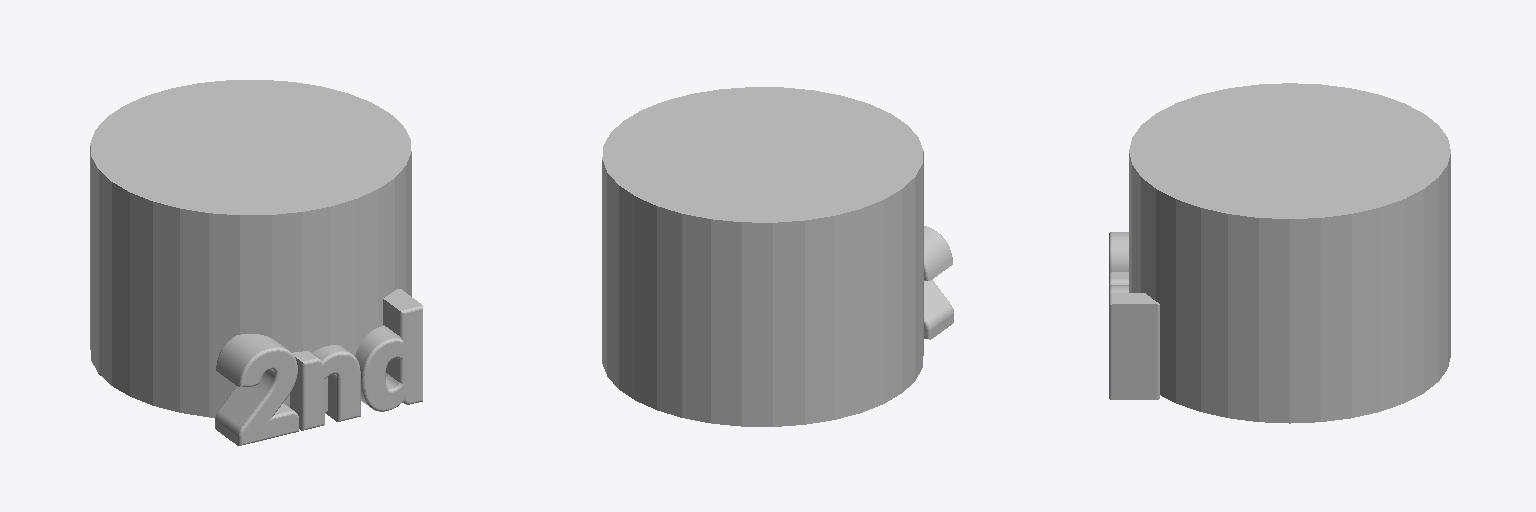
Rendered from second.obj.
3 renders of one model, left to right at view 1: azimuth 30°, elevation 25°; view 2: azimuth 150°, elevation 25°; view 3: azimuth 270°, elevation 25°, orthographic.
Visible parts, largest first — view 1: Cylinder.001, Text.004; view 2: Cylinder.001, Text.004; view 3: Cylinder.001, Text.004.
Boxes of the visible parts, x1=… form: Cylinder.001: x1=90, y1=80, x2=411, y2=417; Text.004: x1=215, y1=289, x2=422, y2=445; Cylinder.001: x1=602, y1=87, x2=923, y2=426; Text.004: x1=924, y1=226, x2=953, y2=339; Cylinder.001: x1=1129, y1=83, x2=1450, y2=423; Text.004: x1=1109, y1=232, x2=1159, y2=399.
Size of the model in its own units: 2 by 1.44 by 2.13.